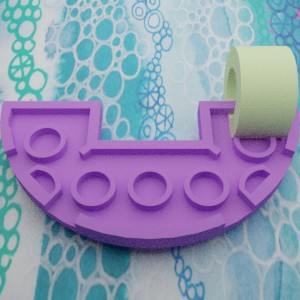lego: (0, 100, 299, 248), (223, 46, 297, 138)
